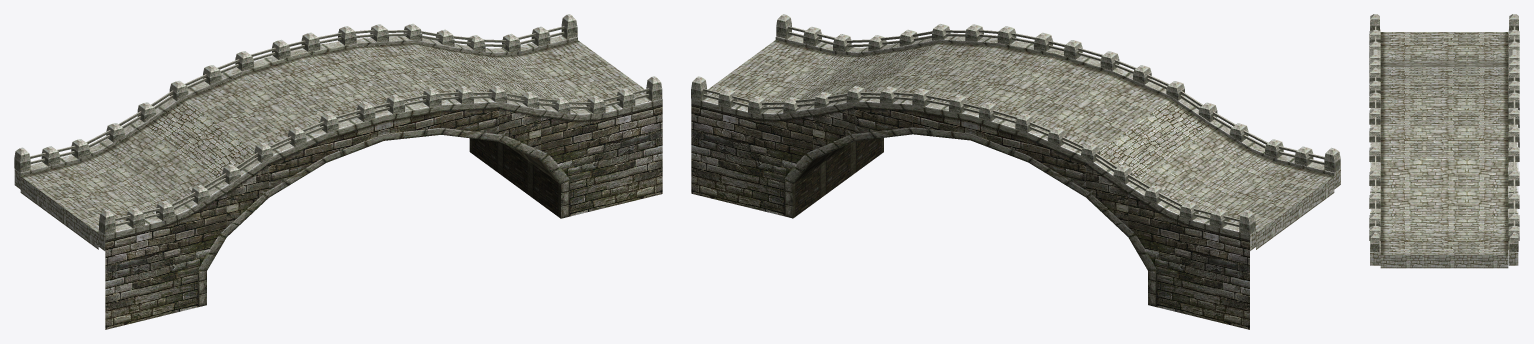
File: c1-024-10m-bridge.glb
3 views of the same model, side by side, from view 1: azimuth 30°, elevation 25°; view 2: azimuth 150°, elevation 25°; view 3: azimuth 270°, elevation 25° (orthographic). The views are drawn at different scales.
Visible parts, largest first — view 1: 024; view 2: 024; view 3: 024.
Part boxes in pixels (x1,y1,x2,y2): 024: (14, 14, 662, 329); 024: (691, 14, 1340, 329); 024: (1369, 14, 1519, 268).
Size of the model in its own units: 28.93 by 7.94 by 8.24.
Materials: 2 (2 with a texture image).
